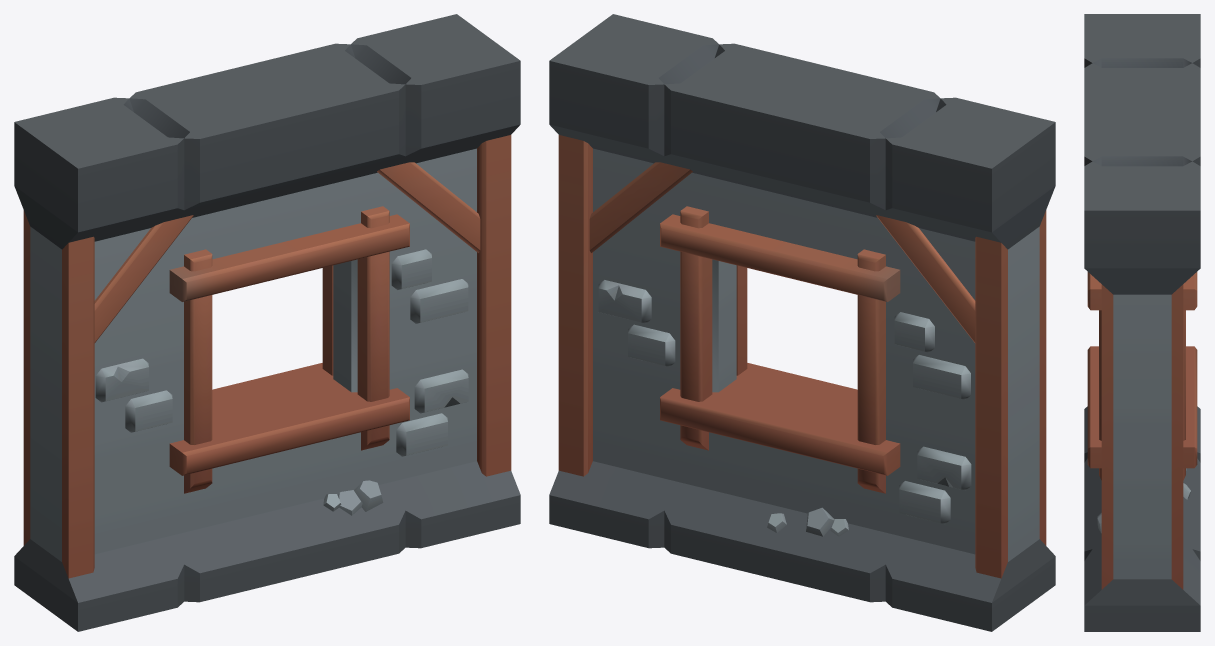
Rendered from wall_window_open_scaffold.glb.
The picture shows the model from 3 angles, left to right: view 1: azimuth 30°, elevation 25°; view 2: azimuth 150°, elevation 25°; view 3: azimuth 270°, elevation 25°; orthographic projection. The views are drawn at different scales.
Parts seen in each view (by area): view 1: wall_window_open_scaffold; view 2: wall_window_open_scaffold; view 3: wall_window_open_scaffold.
Part boxes in pixels (x1=…): wall_window_open_scaffold: x1=14, y1=14, x2=520, y2=631; wall_window_open_scaffold: x1=549, y1=14, x2=1055, y2=631; wall_window_open_scaffold: x1=1084, y1=14, x2=1200, y2=631.
Bounding box in the file's own units: 4 × 4 × 1.
Materials: 1 (1 with a texture image).
